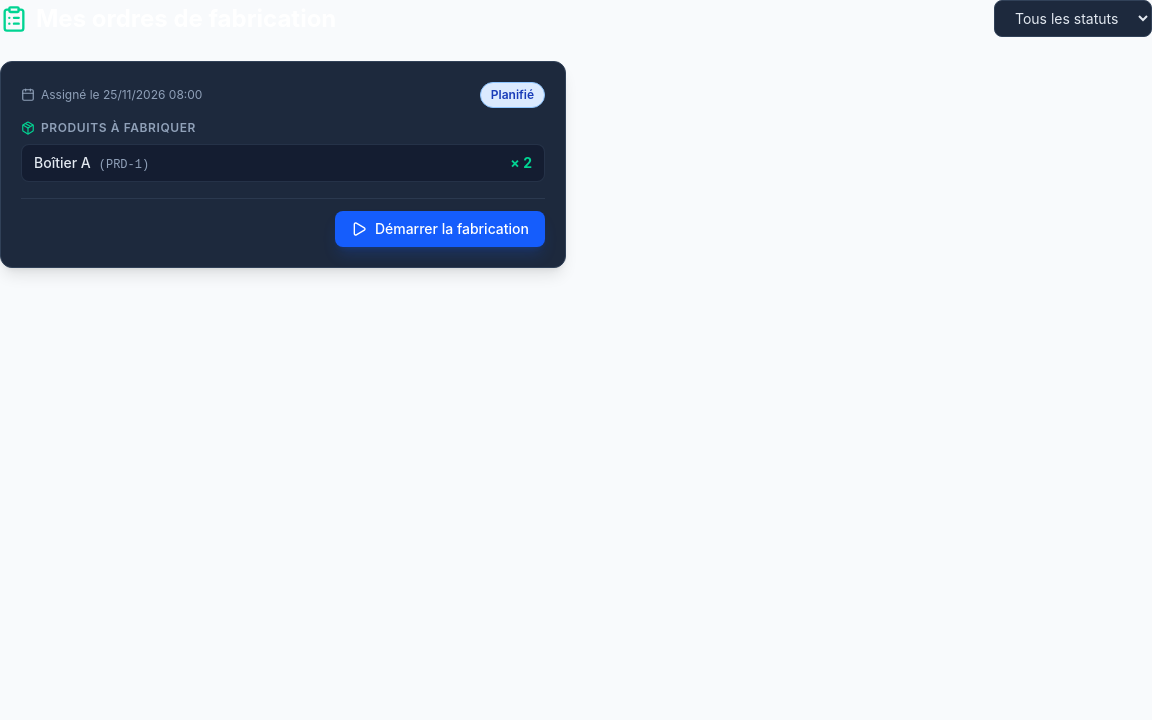
Scenario: OperatorOrdersPage — Cycle de fabrication › affiche l'erreur de stock insuffisant renvoyée par l'API
Expected: the text "Boîtier A" is shown, [34,154,91,171]
Click the button "Démarrer la fabrication".
click(440, 229)  # box [335,211,545,247]
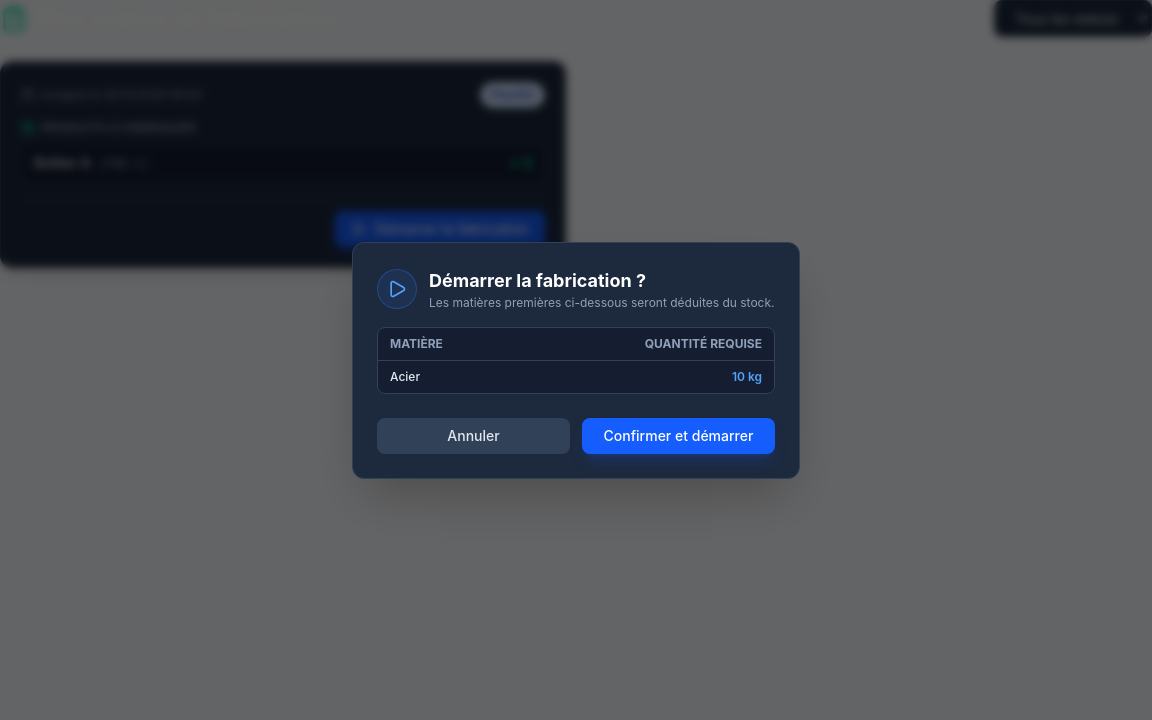
Click the button "Confirmer et démarrer".
click(678, 436)  # box [582,418,775,454]
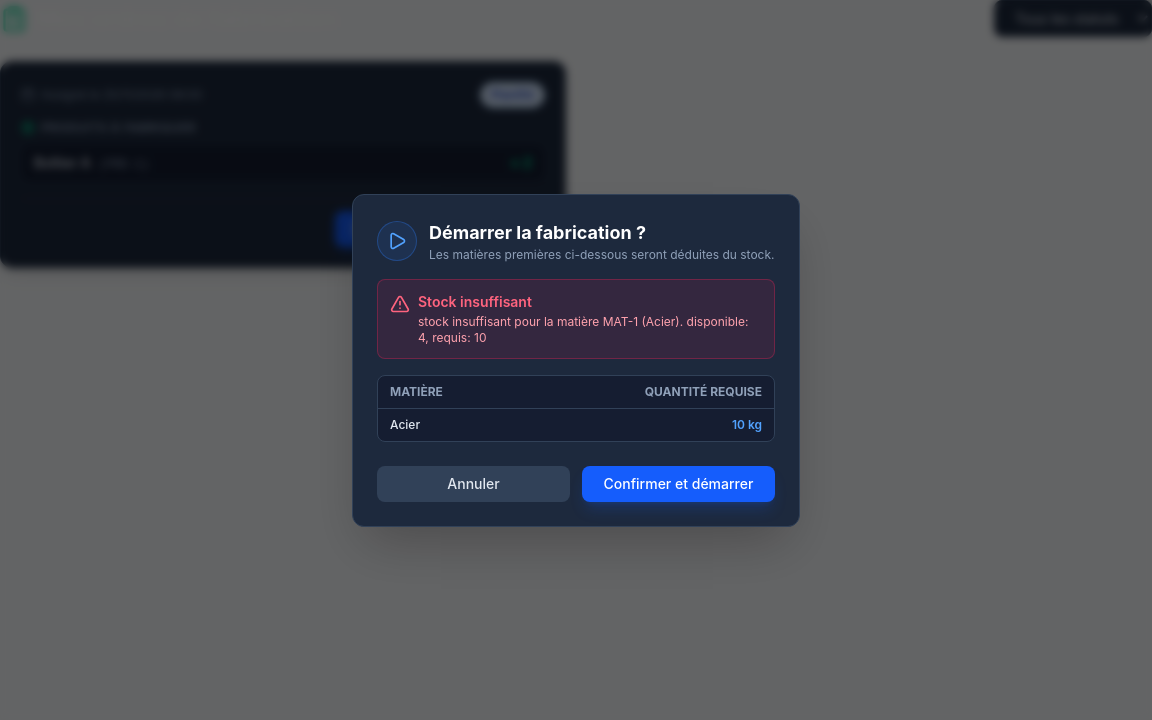
Result: the text "Stock insuffisant" is shown at [418,292,532,310]
Result: the text "disponible: 4, requis: 10" is shown at [418,314,748,344]
